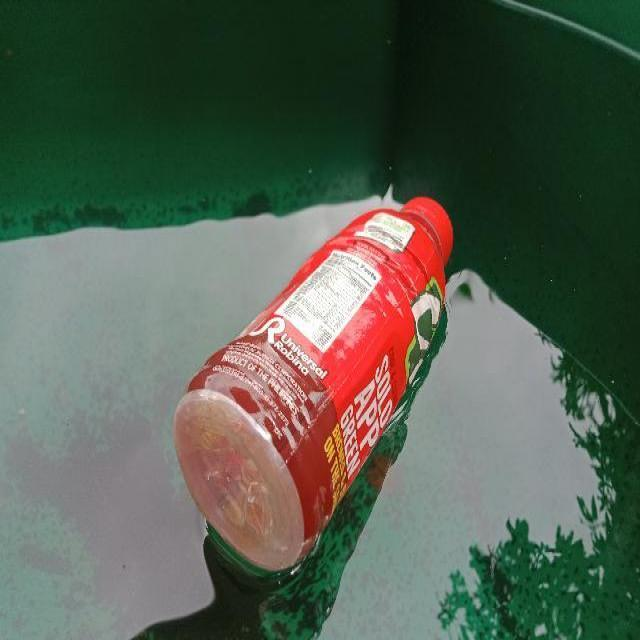Bottle: (150, 163, 498, 598)
